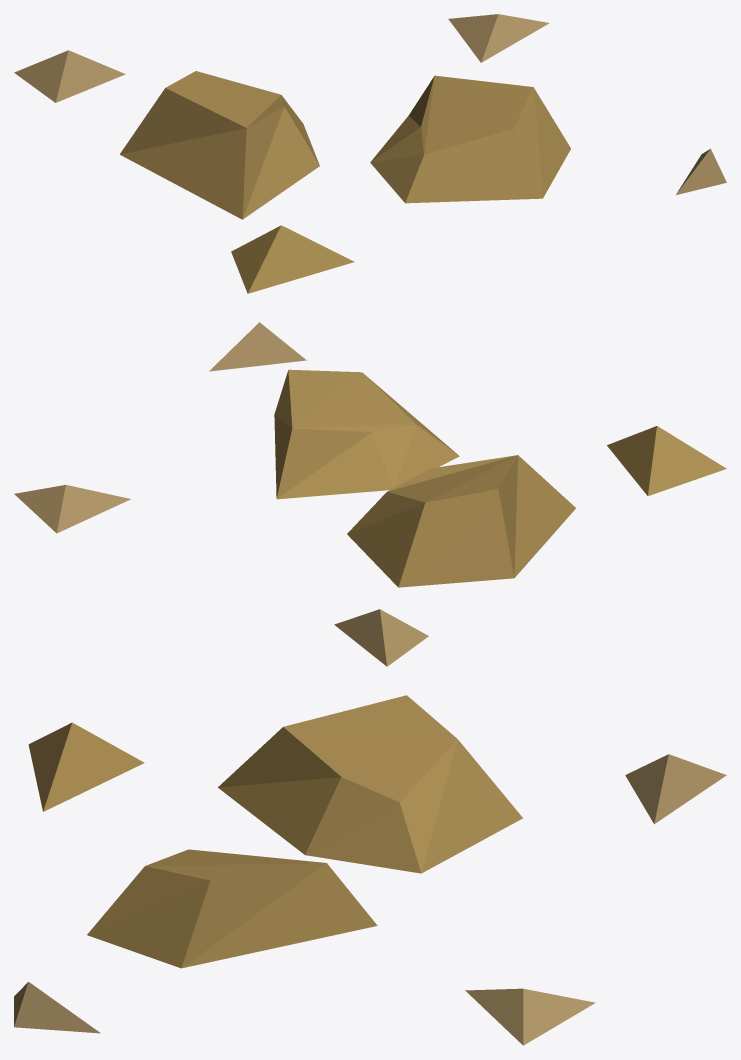
3 views of the same model, one above another, from view 1: azimuth 30°, elevation 25°; view 2: azimuth 150°, elevation 25°; view 3: azimuth 270°, elevation 25° (orthographic). The views are drawn at different scales.
Bounding box in the file's own units: 98 × 14 × 98.
1 material, 1 textured.
